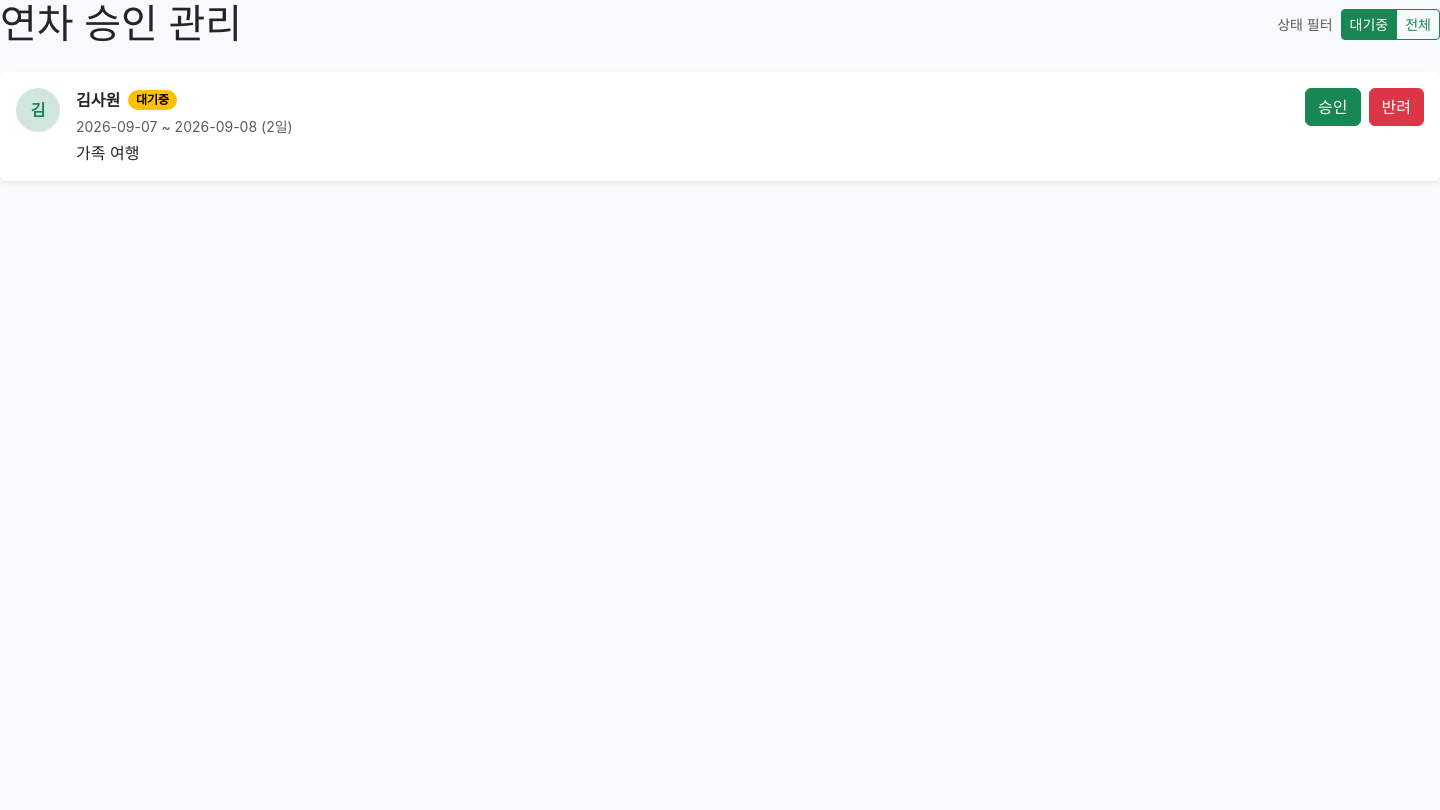
LeaveRequestsManagePage › 이미 처리된 신청을 승인 시도하면 에러 토스트를 표시한다
Expected: the text "김사원" is shown, [76,88,120,112]
Click the button "승인".
click(1333, 107)  # box [1305,88,1361,126]
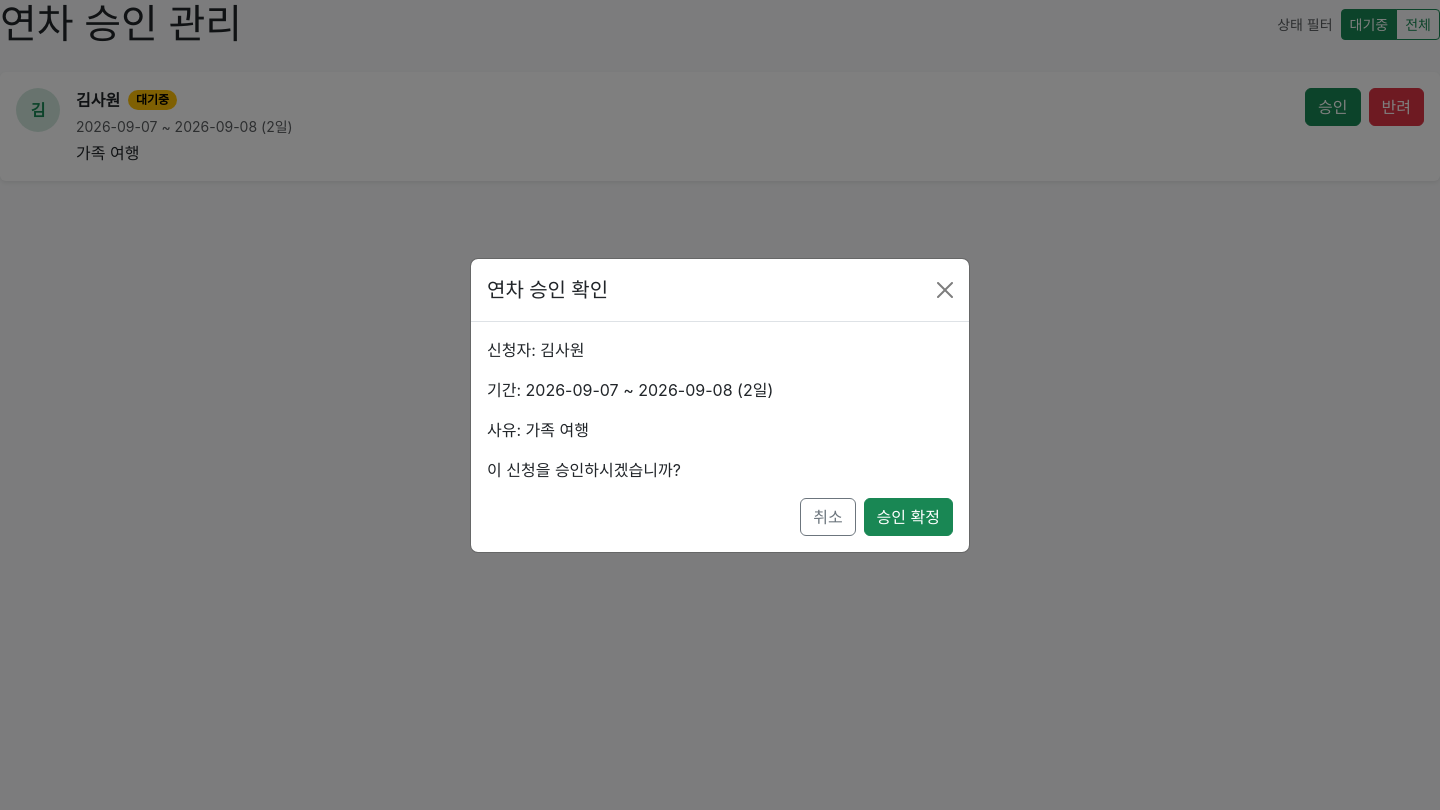
Click the button "승인 확정".
click(908, 516)  # box [864,498,953,536]
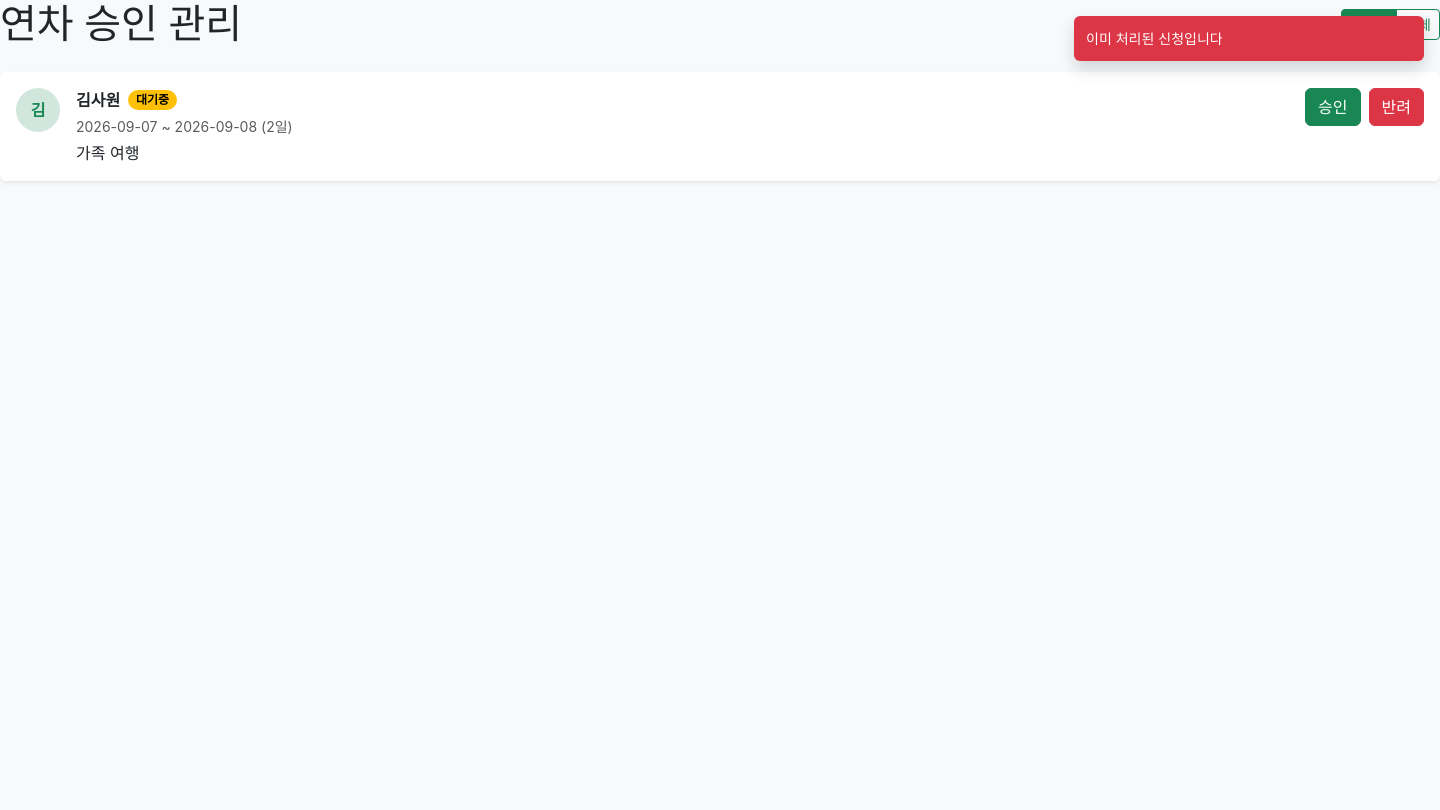
Expected: the message reads "이미 처리된 신청입니다", [1086,30,1223,47]
